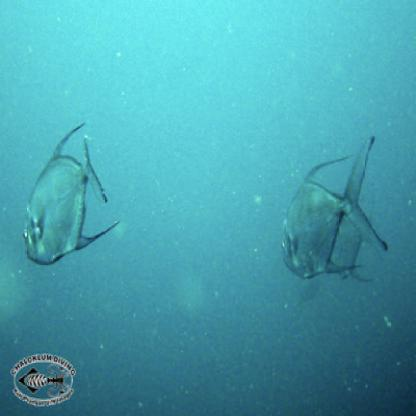Carangidae -Jacks-: (278, 134, 404, 285), (19, 111, 136, 270)
